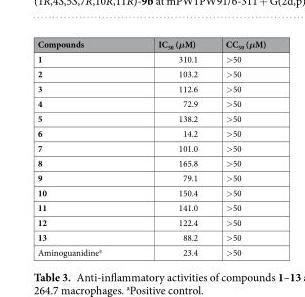table: (36, 37, 265, 257)
table column: (36, 37, 129, 257), (129, 37, 211, 257), (211, 37, 265, 257)
table column header: (36, 37, 265, 51)
table row: (36, 65, 265, 80), (36, 80, 265, 95), (36, 95, 265, 110), (36, 110, 265, 125), (36, 125, 265, 140), (36, 140, 265, 155), (36, 169, 265, 184), (36, 184, 265, 199), (36, 199, 265, 214), (36, 214, 265, 229), (36, 229, 265, 244), (36, 37, 265, 51), (36, 51, 265, 65), (36, 155, 265, 169), (36, 244, 265, 257)
